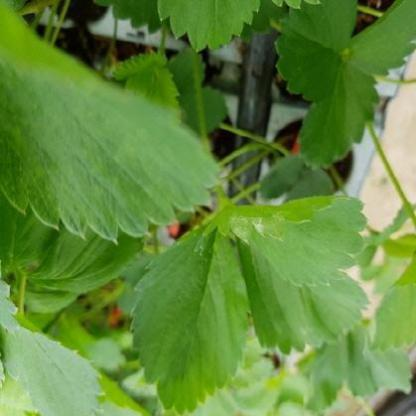Strawberry_Powdery_Mildew_Leaf: (200, 194, 369, 288)
